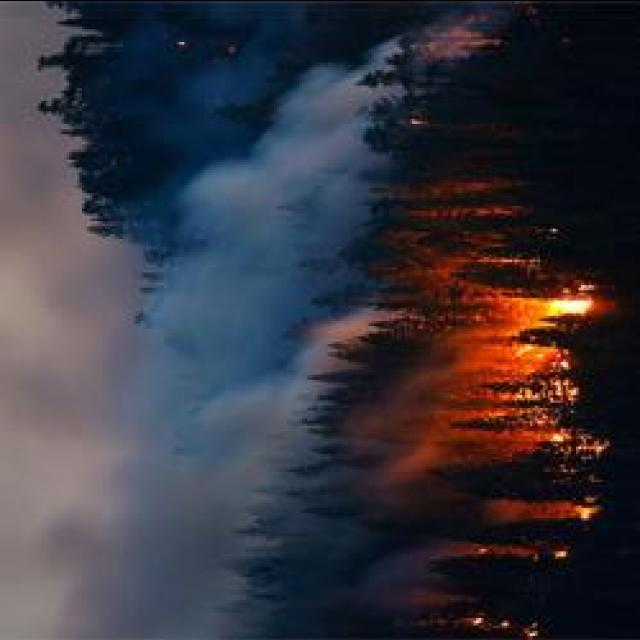fire: (512, 283, 602, 333)
smoke: (58, 493, 230, 640), (150, 154, 260, 358), (266, 58, 380, 210), (190, 362, 284, 490)
